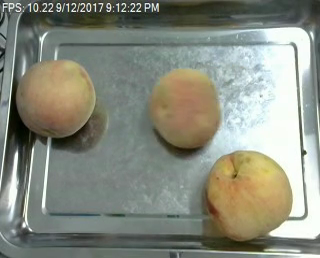Peach: (204, 149, 294, 241), (16, 58, 96, 138), (149, 68, 221, 147)
